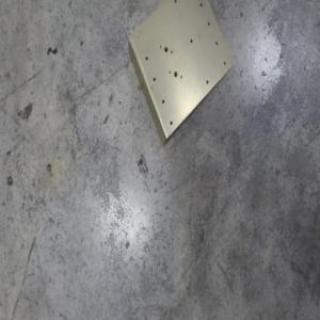MetalSheettrack_idkeyframe: (124, 0, 233, 147)
